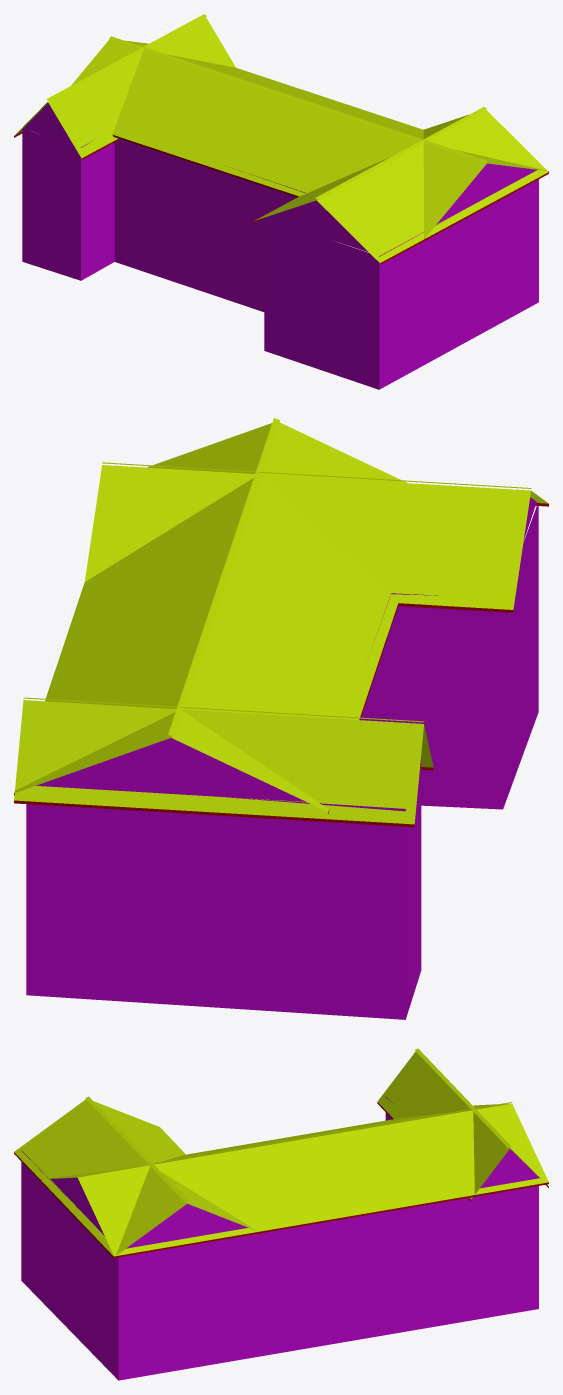
File: sjs_71.glb
3 views of the same model, one above another, from view 1: azimuth 30°, elevation 25°; view 2: azimuth 150°, elevation 25°; view 3: azimuth 270°, elevation 25° (orthographic). The views are drawn at different scales.
Visible parts, largest first — view 1: sjs_71; view 2: sjs_71; view 3: sjs_71.
Boxes of the visible parts, x1,y1,x2,y2 form: sjs_71: [14, 14, 548, 389]; sjs_71: [14, 418, 548, 1019]; sjs_71: [14, 1048, 548, 1380].
Bounding box in the file's own units: 24.57 × 11.31 × 32.25.
